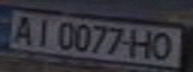0: (69, 20, 93, 53), (51, 19, 75, 52)
7: (87, 24, 109, 55), (106, 25, 127, 56)
A: (3, 12, 39, 45)
H: (127, 27, 160, 61)
I: (27, 16, 57, 47)
O: (148, 29, 181, 62)
